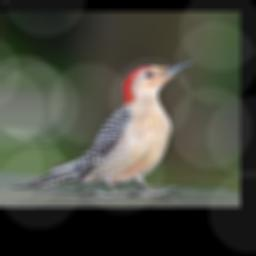Woodpecker: (9, 57, 197, 198)
